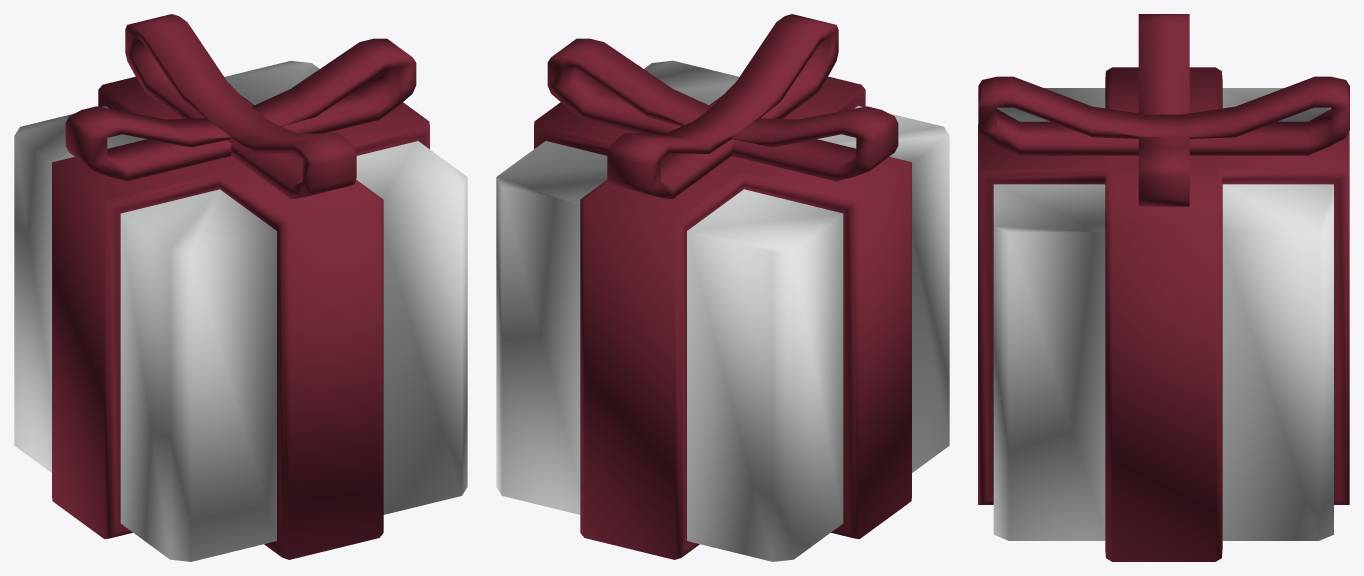
Rendered from giftBigLow.fbx.
The picture shows the model from 3 angles, left to right: view 1: azimuth 30°, elevation 25°; view 2: azimuth 150°, elevation 25°; view 3: azimuth 270°, elevation 25°; orthographic projection.
Parts seen in each view (by area): view 1: giftBigLow; view 2: giftBigLow; view 3: giftBigLow.
Part boxes in pixels (box(x1,y1,x2,y2)): giftBigLow: box(14, 14, 467, 561); giftBigLow: box(496, 14, 949, 561); giftBigLow: box(978, 14, 1349, 561).
Size of the model in its own units: 0.4394 by 0.5136 by 0.4376.
